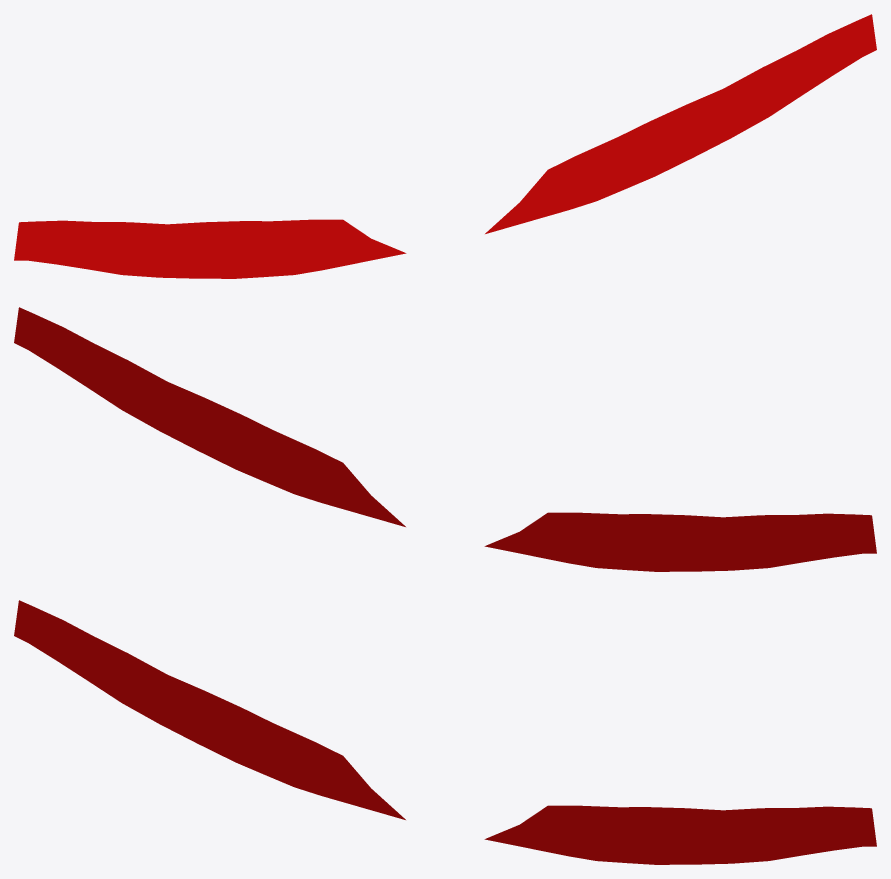
The model's file is frame52.fbx.
The picture shows the model from 3 angles, top to bottom: view 1: azimuth 30°, elevation 25°; view 2: azimuth 150°, elevation 25°; view 3: azimuth 330°, elevation 25°; orthographic projection.
Parts seen in each view (by area): view 1: MaterialLayer; view 2: MaterialLayer; view 3: MaterialLayer.
Part boxes in pixels (x1,y1,x2,y2): MaterialLayer: [14, 14, 876, 278]; MaterialLayer: [14, 307, 876, 571]; MaterialLayer: [14, 600, 876, 864].
Bounding box in the file's own units: 1225 × 171 × 0.
